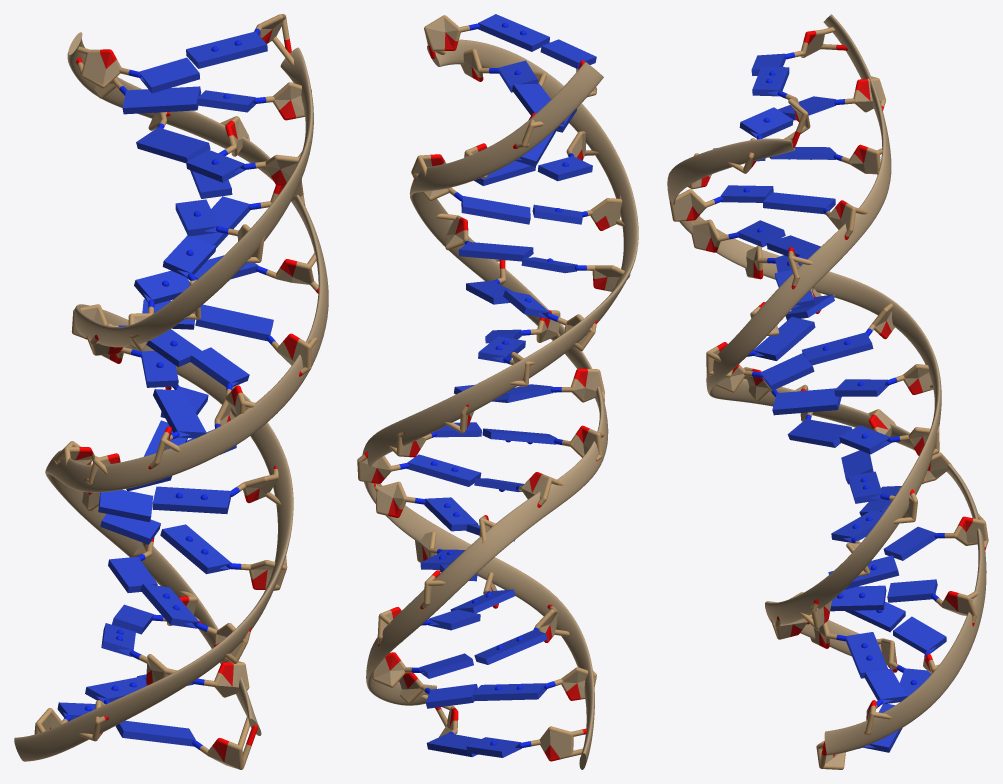
The model's file is dna.fbx.
The picture shows the model from 3 angles, left to right: view 1: azimuth 30°, elevation 25°; view 2: azimuth 150°, elevation 25°; view 3: azimuth 270°, elevation 25°; orthographic projection. The views are drawn at different scales.
Parts seen in each view (by area): view 1: subnode_0; view 2: subnode_0; view 3: subnode_0.
Boxes of the visible parts, x1,y1,x2,y2 form: subnode_0: (14,14,328,769); subnode_0: (357,14,638,769); subnode_0: (667,14,988,769).
Bounding box in the file's own units: 19.51 × 56.75 × 23.96.
